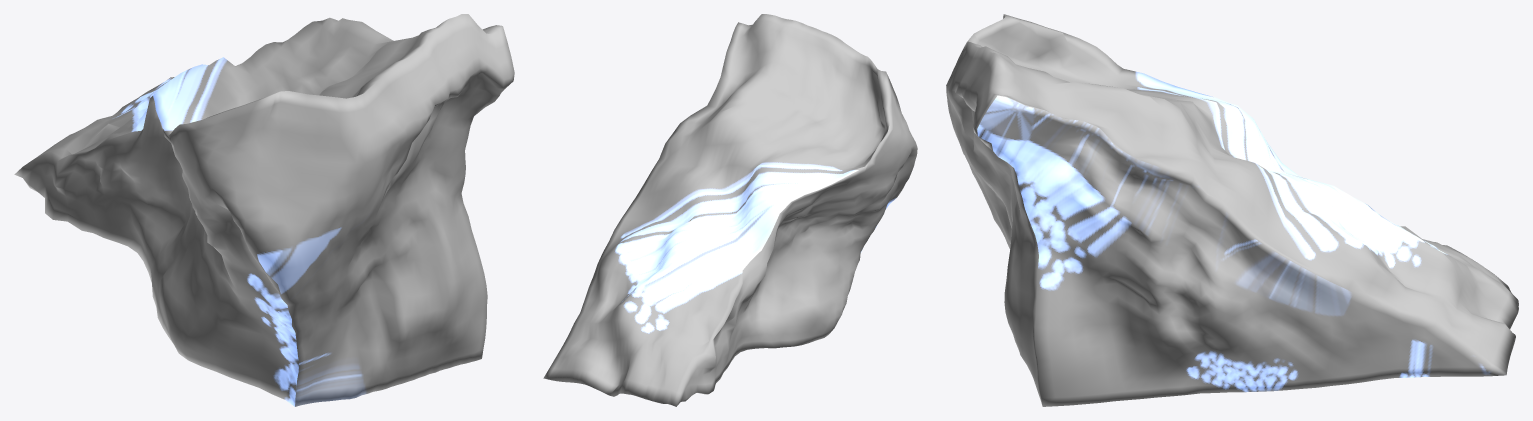
The model's file is SM_Rock_00.fbx.
The picture shows the model from 3 angles, left to right: view 1: azimuth 30°, elevation 25°; view 2: azimuth 150°, elevation 25°; view 3: azimuth 270°, elevation 25°; orthographic projection. The views are drawn at different scales.
Parts seen in each view (by area): view 1: SM_Rock_00; view 2: SM_Rock_00; view 3: SM_Rock_00.
Part boxes in pixels (x1,y1,x2,y2): SM_Rock_00: (14, 14, 514, 406); SM_Rock_00: (543, 14, 917, 406); SM_Rock_00: (946, 14, 1518, 406).
Bounding box in the file's own units: 178 × 326 × 208.
